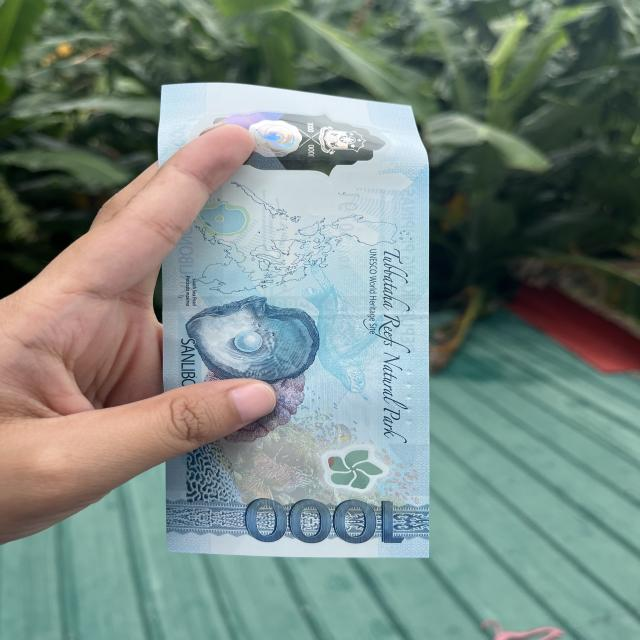clear_window: (156, 106, 429, 179)
sampaguita: (319, 443, 388, 490)
security_thread: (160, 294, 428, 314)
